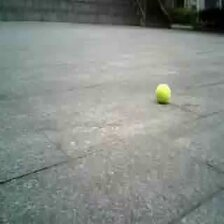tennis: (155, 84, 172, 101)
